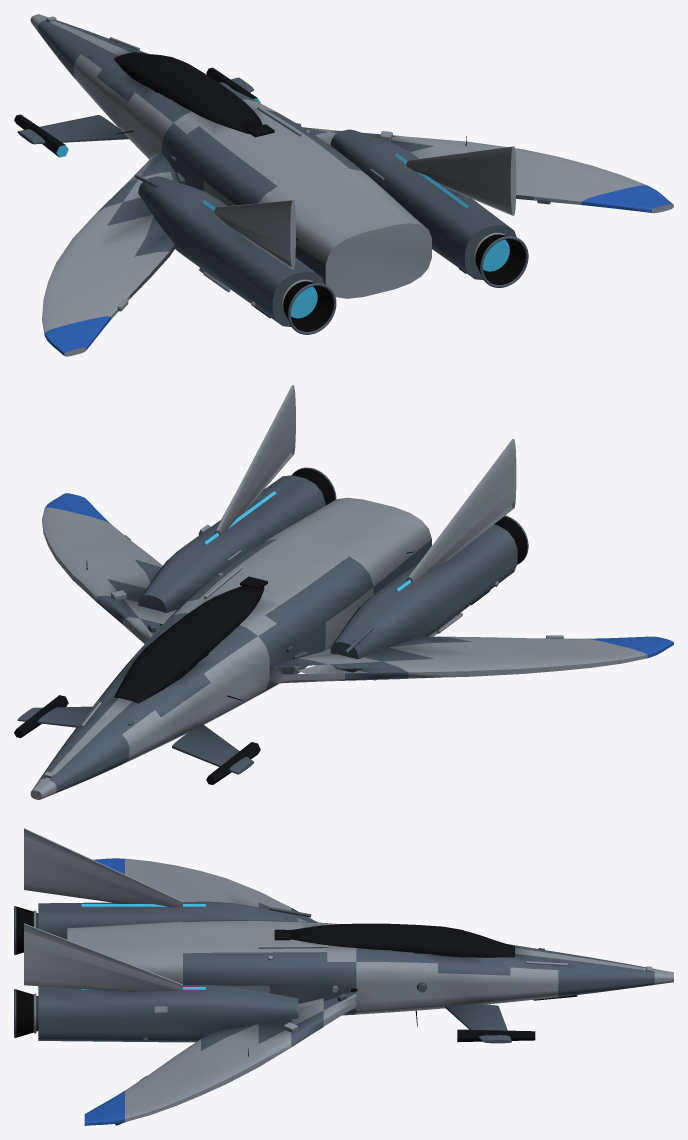
Rendered from kestrel.glb.
The picture shows the model from 3 angles, top to bottom: view 1: azimuth 30°, elevation 25°; view 2: azimuth 150°, elevation 25°; view 3: azimuth 270°, elevation 25°; orthographic projection. The views are drawn at different scales.
Visible parts, largest first — view 1: kestrel; view 2: kestrel; view 3: kestrel.
Part boxes in pixels (x1,y1,x2,y2): kestrel: [14, 14, 673, 356]; kestrel: [14, 385, 673, 799]; kestrel: [14, 828, 673, 1125].
Size of the model in its own units: 22.67 by 5.41 by 24.
